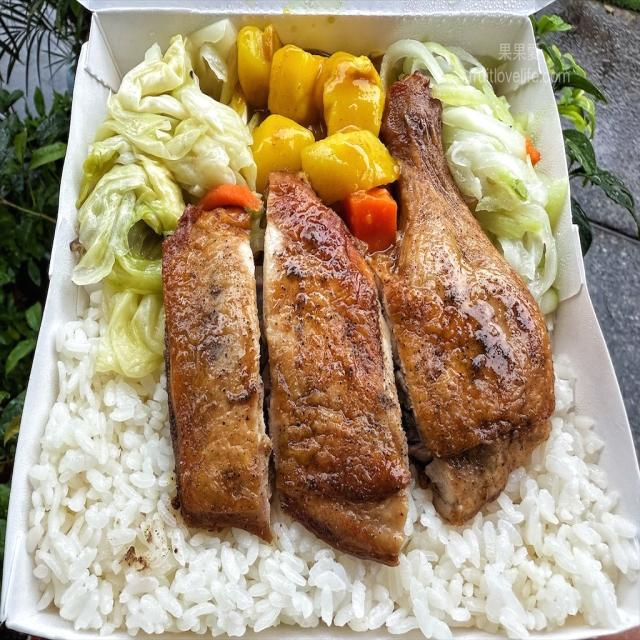Chicken Leg Steak: (161, 229, 532, 491)
cabbage: (93, 29, 243, 190), (432, 42, 571, 212)
rice: (45, 462, 634, 620), (61, 368, 145, 454)
